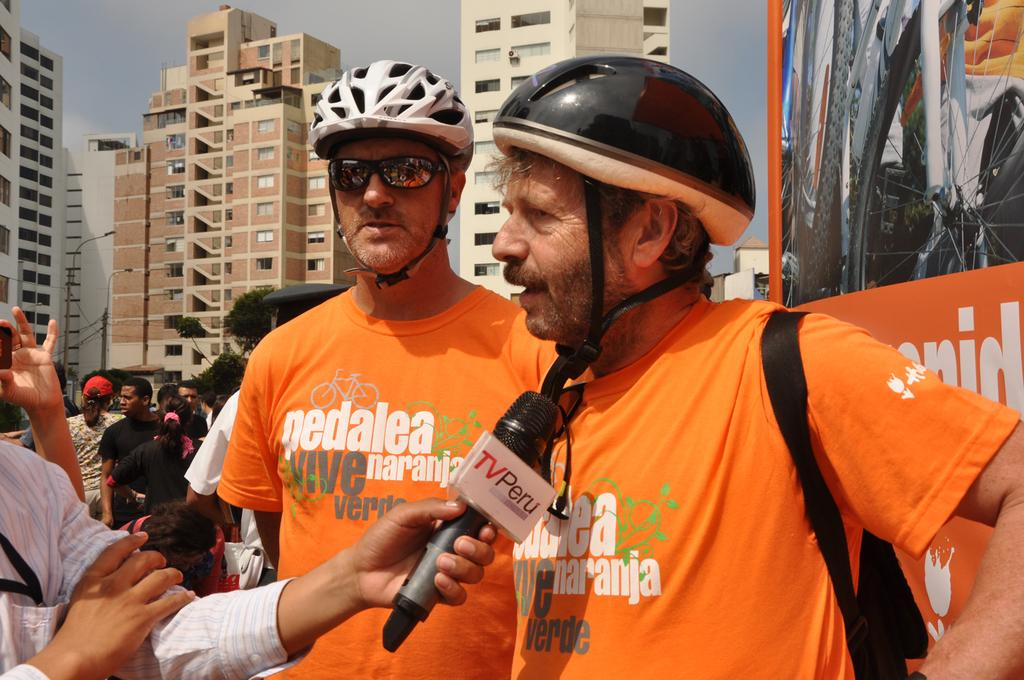Hat: (82, 373, 113, 397)
